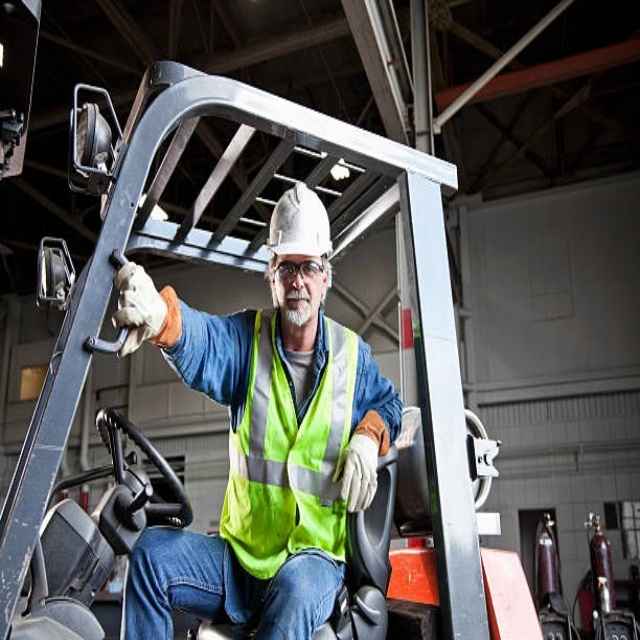Gafas: (272, 259, 325, 281)
Guantes: (334, 400, 391, 516), (113, 256, 167, 342)
Sin_mascara: (282, 289, 314, 318)
